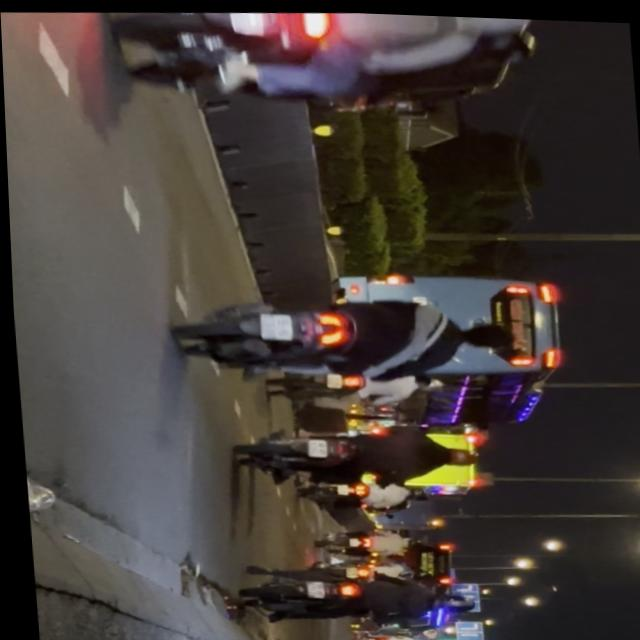helmet: (479, 19, 544, 63), (471, 14, 536, 36)
licenseplate: (103, 3, 596, 121), (168, 283, 517, 390)
motorcyclist: (449, 314, 512, 350)
nohelmet: (258, 309, 290, 337), (230, 9, 266, 33)
